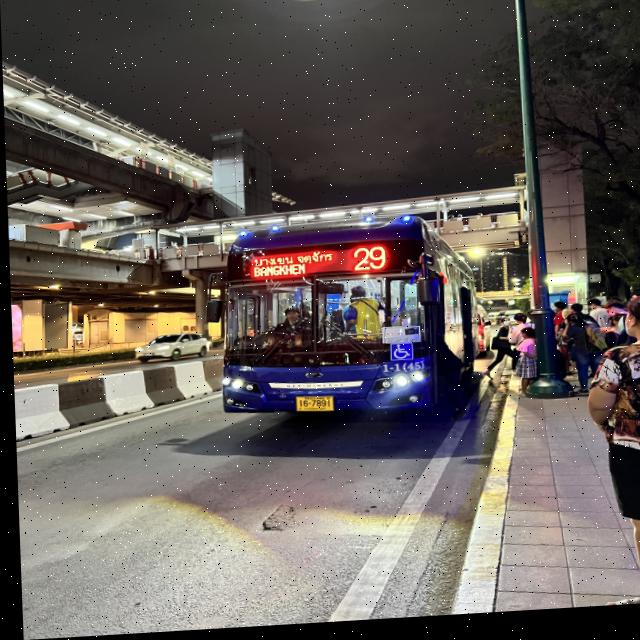Bus Line Number: (347, 247, 388, 279)
Bus Side Number: (375, 365, 423, 379)
Destination Sign: (246, 251, 338, 285)
TSB-Bus: (217, 223, 470, 424)
